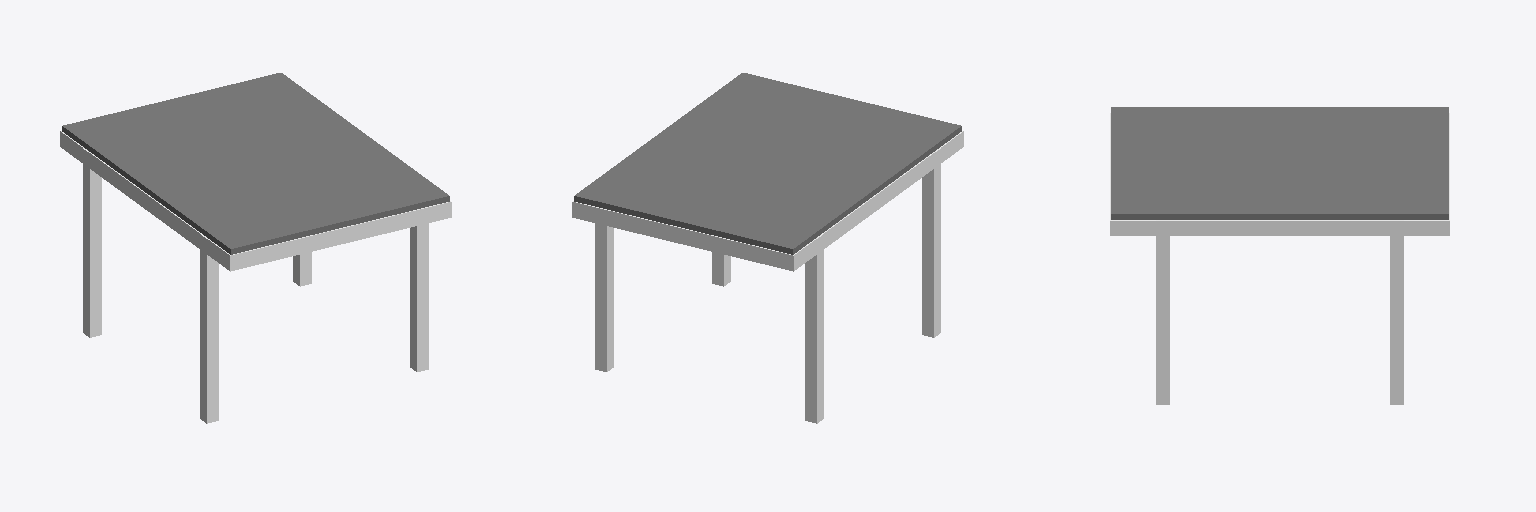
Rendered from table.obj.
3 renders of one model, left to right at view 1: azimuth 30°, elevation 25°; view 2: azimuth 150°, elevation 25°; view 3: azimuth 270°, elevation 25°, orthographic.
Size of the model in its own units: 17.66 by 14.45 by 23.37.